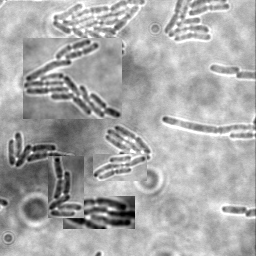Dividing: (161, 114, 255, 133), (221, 204, 248, 215)
Microcolony: (23, 38, 122, 119), (51, 1, 147, 56), (162, 1, 231, 44), (63, 196, 135, 229), (8, 130, 72, 167), (48, 156, 84, 218), (106, 124, 153, 160), (93, 154, 147, 181), (208, 63, 240, 74)
